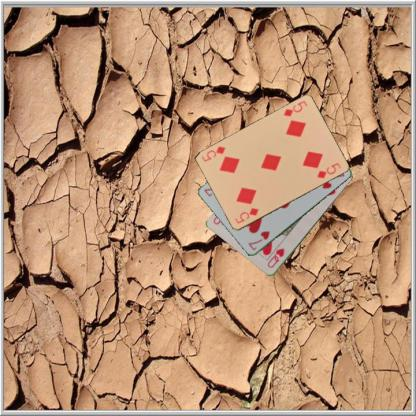5d: (232, 205, 260, 225), (281, 98, 308, 118)
7h: (246, 228, 271, 252)
Qh: (264, 246, 286, 269)
